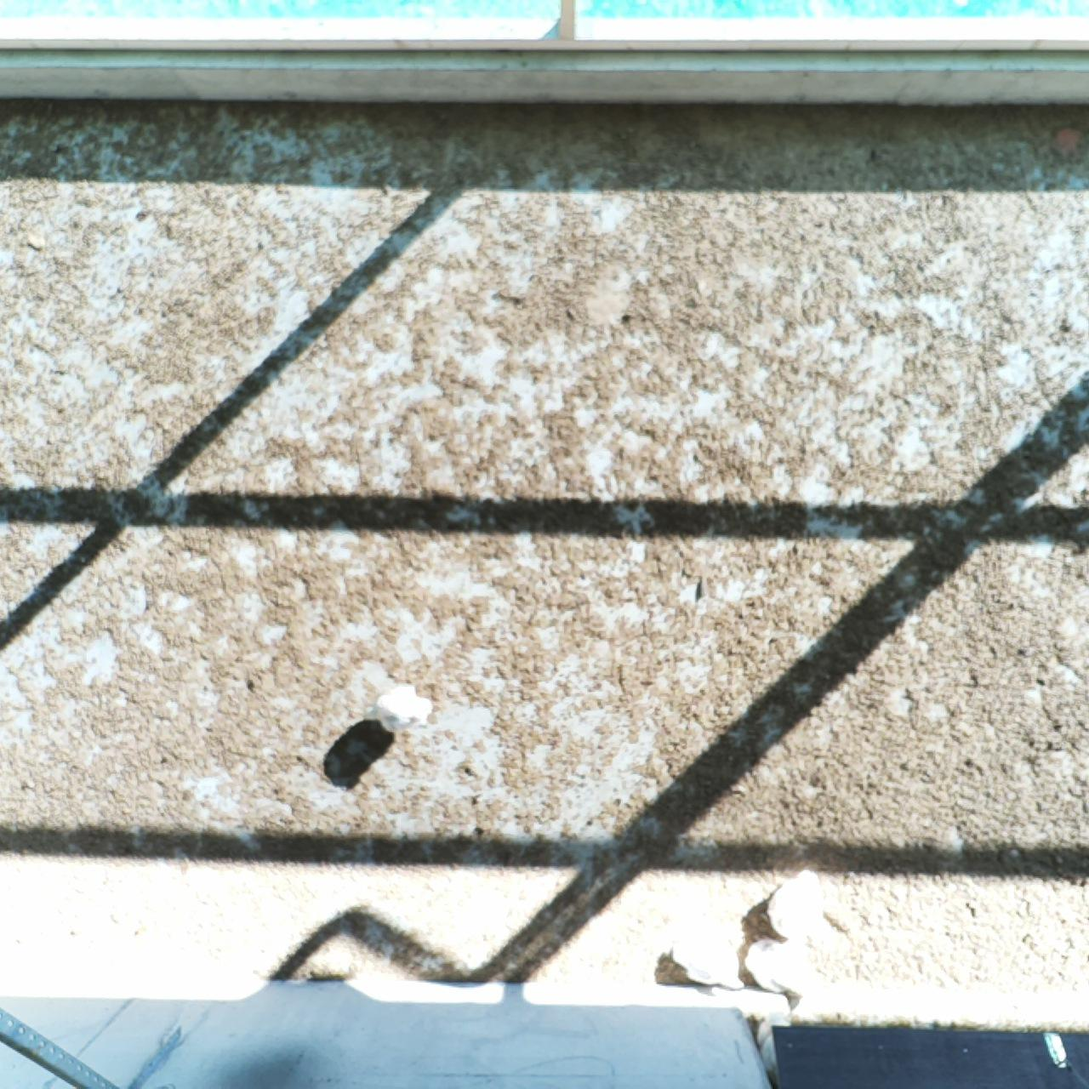chicken: (740, 929, 811, 1006), (767, 865, 830, 948), (667, 928, 744, 990)
